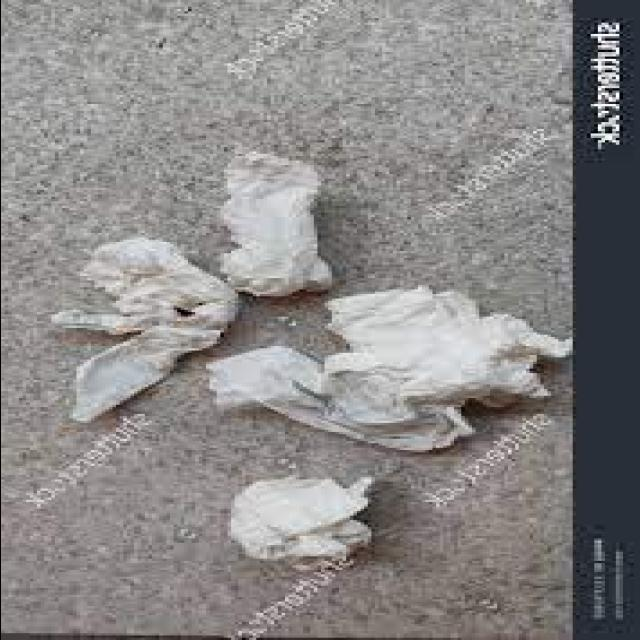tissue: (207, 290, 569, 451), (52, 237, 237, 420), (219, 151, 331, 296), (229, 477, 371, 570)
